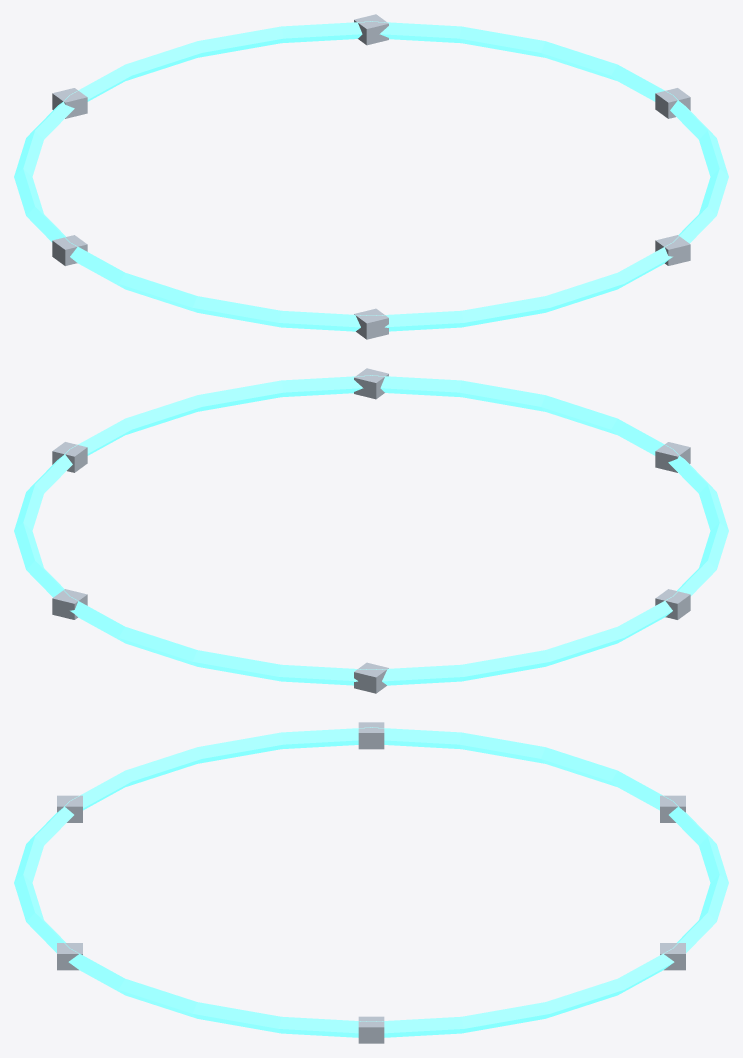
File: core_ring_inner.glb
3 renders of one model, top to bottom at view 1: azimuth 30°, elevation 25°; view 2: azimuth 150°, elevation 25°; view 3: azimuth 270°, elevation 25°, orthographic.
Parts seen in each view (by area): view 1: core_ring_inner; view 2: core_ring_inner; view 3: core_ring_inner.
Part boxes in pixels (left/top/right/bottom): core_ring_inner: left=14, top=14, right=728, bottom=339; core_ring_inner: left=14, top=368, right=728, bottom=693; core_ring_inner: left=14, top=722, right=728, bottom=1043.
Bounding box in the file's own units: 1.29 × 0.033 × 1.27.
